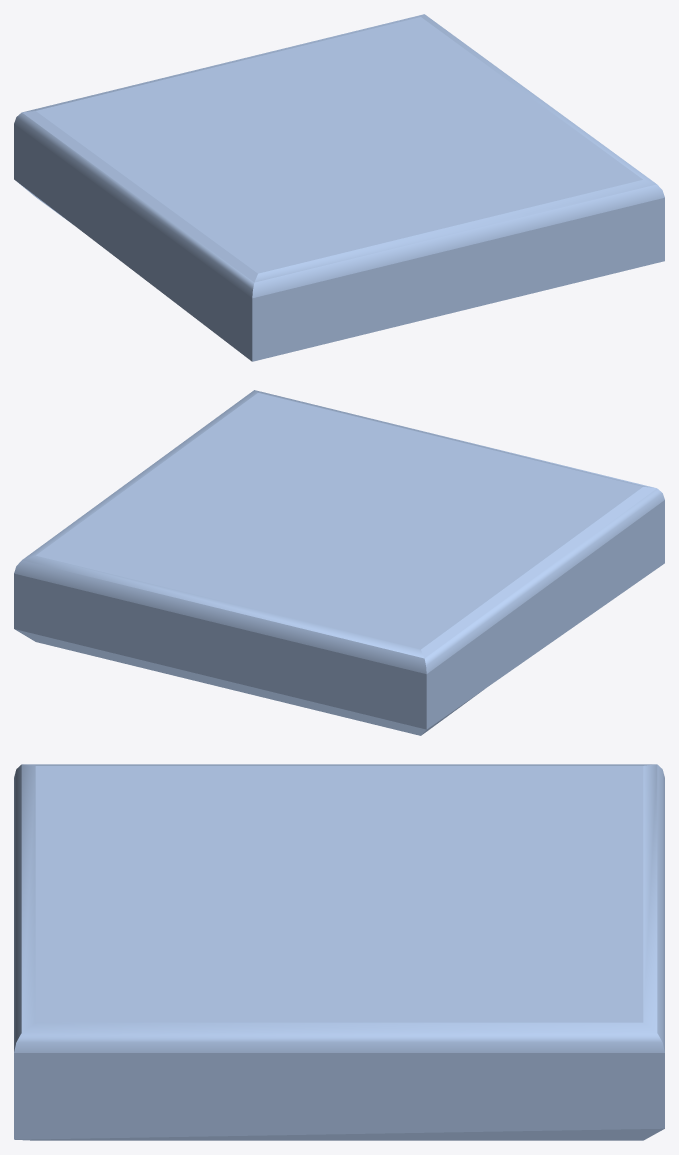
File: CubePickUps.fbx
3 views of the same model, one above another, from view 1: azimuth 30°, elevation 25°; view 2: azimuth 150°, elevation 25°; view 3: azimuth 270°, elevation 25° (orthographic). The views are drawn at different scales.
Visible parts, largest first — view 1: Cube; view 2: Cube; view 3: Cube.
Boxes of the visible parts, x1=… form: Cube: x1=14, y1=14, x2=664, y2=361; Cube: x1=14, y1=390, x2=664, y2=735; Cube: x1=14, y1=764, x2=664, y2=1140.
Size of the model in its own units: 39.37 by 7.87 by 39.37.
